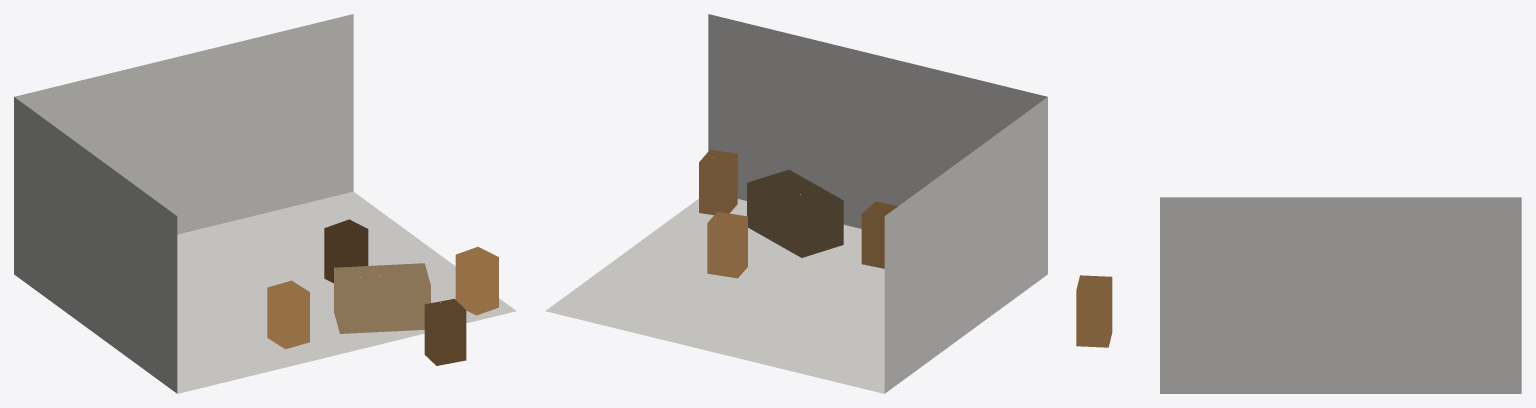
3 views of the same model, side by side, from view 1: azimuth 30°, elevation 25°; view 2: azimuth 150°, elevation 25°; view 3: azimuth 270°, elevation 25° (orthographic). The views are drawn at different scales.
Visible parts, largest first — view 1: Room, wood_table_mesh, dining_chair_0_mesh, dining_chair_1_mesh, dining_chair_3_mesh, dining_chair_2_mesh; view 2: Room, wood_table_mesh, dining_chair_2_mesh, dining_chair_0_mesh, dining_chair_1_mesh; view 3: Room, dining_chair_3_mesh.
Boxes of the visible parts, x1=… form: Room: x1=14, y1=14, x2=516, y2=393; wood_table_mesh: x1=334, y1=263, x2=430, y2=333; dining_chair_0_mesh: x1=455, y1=247, x2=498, y2=315; dining_chair_1_mesh: x1=267, y1=280, x2=309, y2=349; dining_chair_3_mesh: x1=424, y1=299, x2=466, y2=365; dining_chair_2_mesh: x1=324, y1=219, x2=368, y2=283; Room: x1=545, y1=14, x2=1047, y2=393; wood_table_mesh: x1=747, y1=169, x2=843, y2=257; dining_chair_2_mesh: x1=707, y1=211, x2=747, y2=278; dining_chair_0_mesh: x1=699, y1=149, x2=737, y2=214; dining_chair_1_mesh: x1=861, y1=201, x2=898, y2=268; Room: x1=1160, y1=197, x2=1521, y2=393; dining_chair_3_mesh: x1=1076, y1=275, x2=1112, y2=347.
Size of the model in its own units: 6 by 3 by 6.16.
